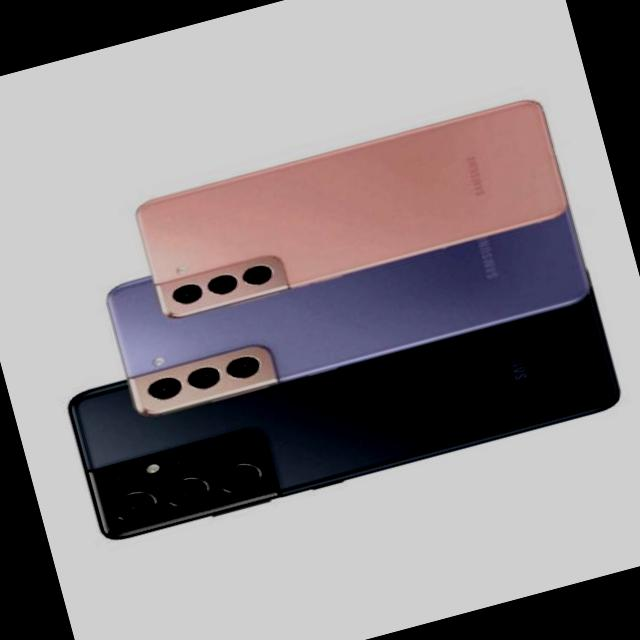lens_back: (105, 482, 162, 528), (210, 456, 266, 500), (160, 470, 215, 513), (142, 368, 187, 407), (220, 348, 266, 383), (167, 276, 207, 310), (184, 359, 224, 393), (237, 258, 276, 290), (202, 268, 240, 299)
phone: (58, 250, 630, 550), (92, 159, 606, 423), (126, 85, 576, 324)
